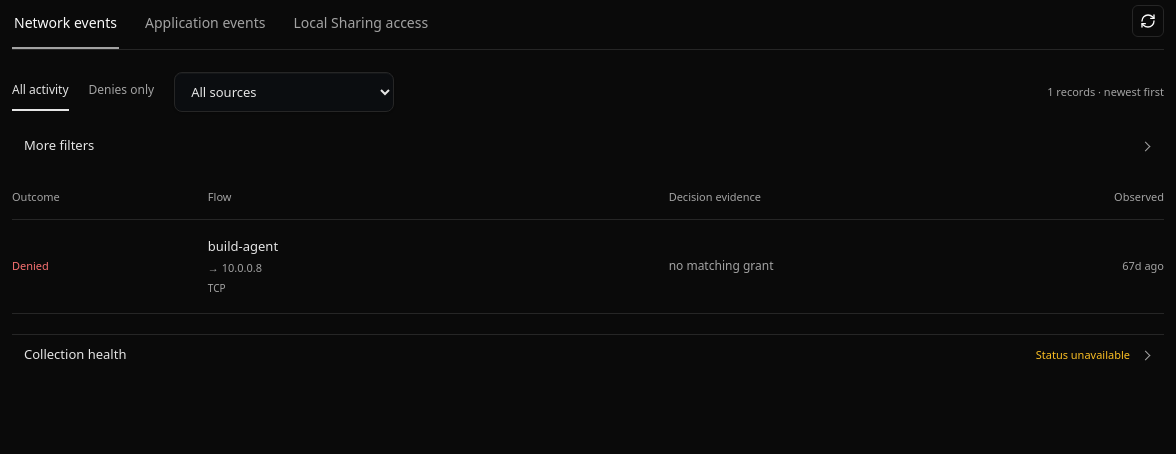
it: keeps retained events visible when collector evidence is malformed and retries health independently: {}
expect the table named "Access events" is shown: met, box top-left (12, 176), bottom-right (1164, 314)
expect the text "Status unavailable" is shown: met, box top-left (1036, 347), bottom-right (1130, 363)
Click the text "Collection health". click: (75, 355)
box: top-left (24, 345), bottom-right (126, 365)
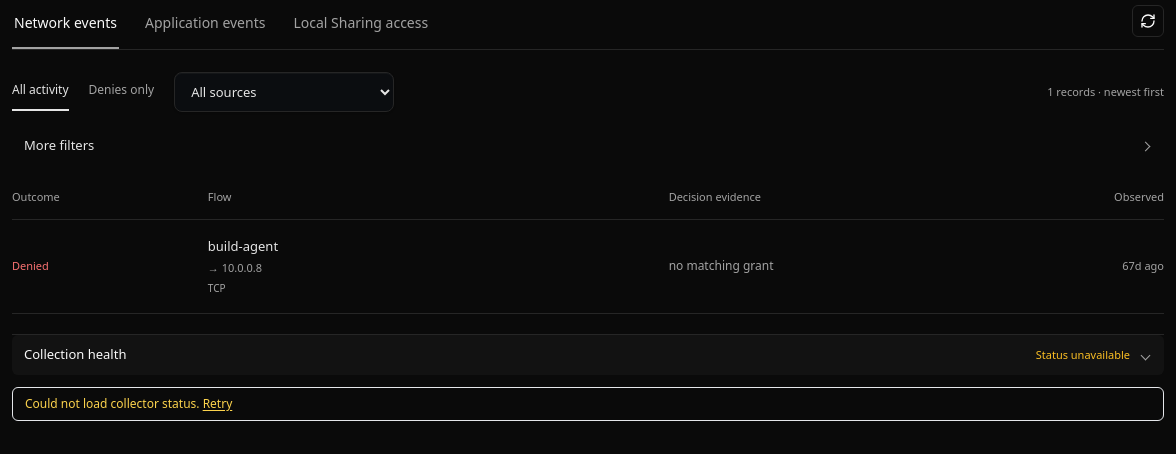
expect the text "Could not load collector status." is shown: met, box top-left (25, 395), bottom-right (200, 412)
Click the button "Retry". click: (217, 404)
box: top-left (203, 396), bottom-right (232, 412)
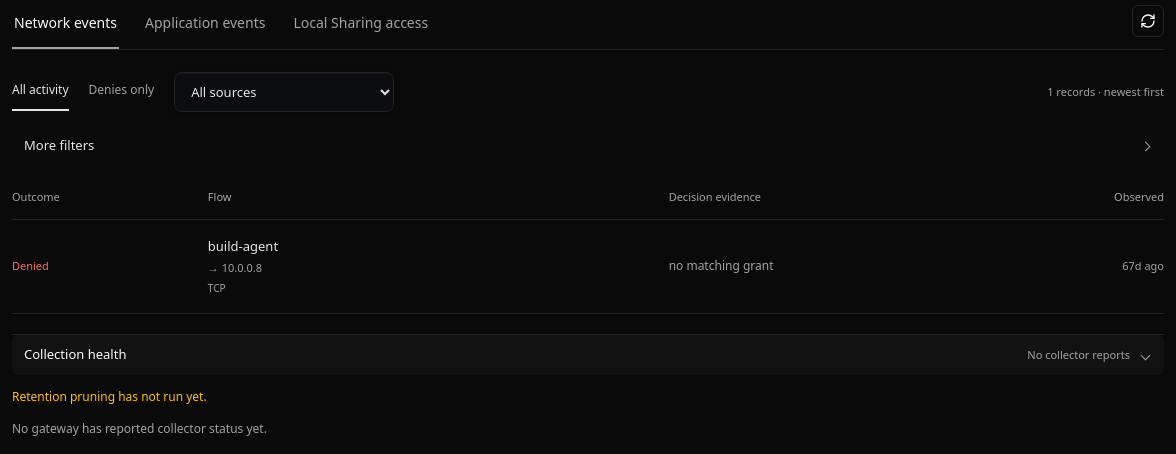
expect the text "No gateway has reported collector status yet." is shown: met, box top-left (12, 420), bottom-right (267, 437)
expect the text "Could not load collector status." is gone: met
